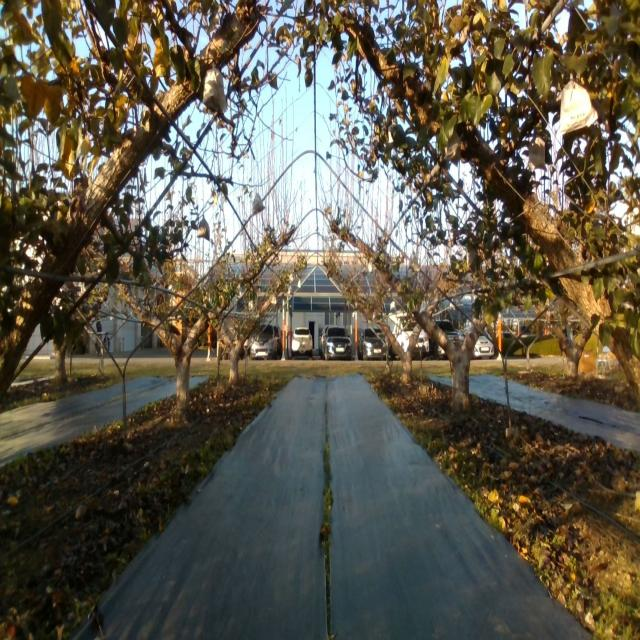pearbags: (559, 78, 598, 134), (202, 66, 227, 112), (528, 137, 546, 171), (198, 218, 210, 242), (409, 251, 420, 272), (253, 193, 264, 214)
